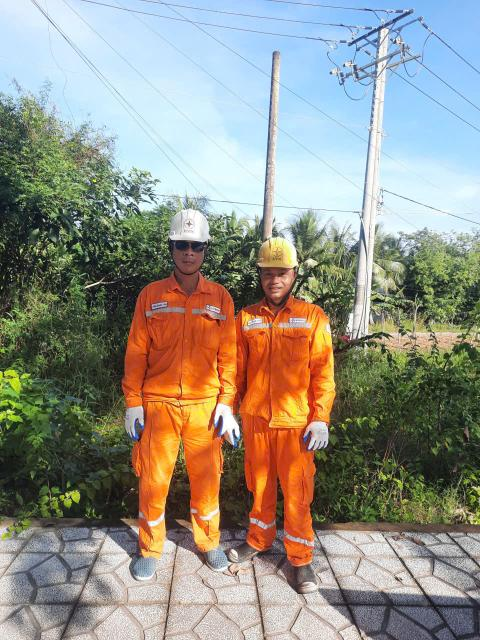gloves: (113, 399, 163, 442), (206, 390, 231, 437), (300, 420, 337, 450), (218, 411, 243, 447)
helmet: (158, 208, 219, 248), (251, 240, 302, 271)
shoes: (279, 556, 328, 596), (226, 526, 260, 567), (191, 548, 237, 575), (131, 553, 161, 582)
